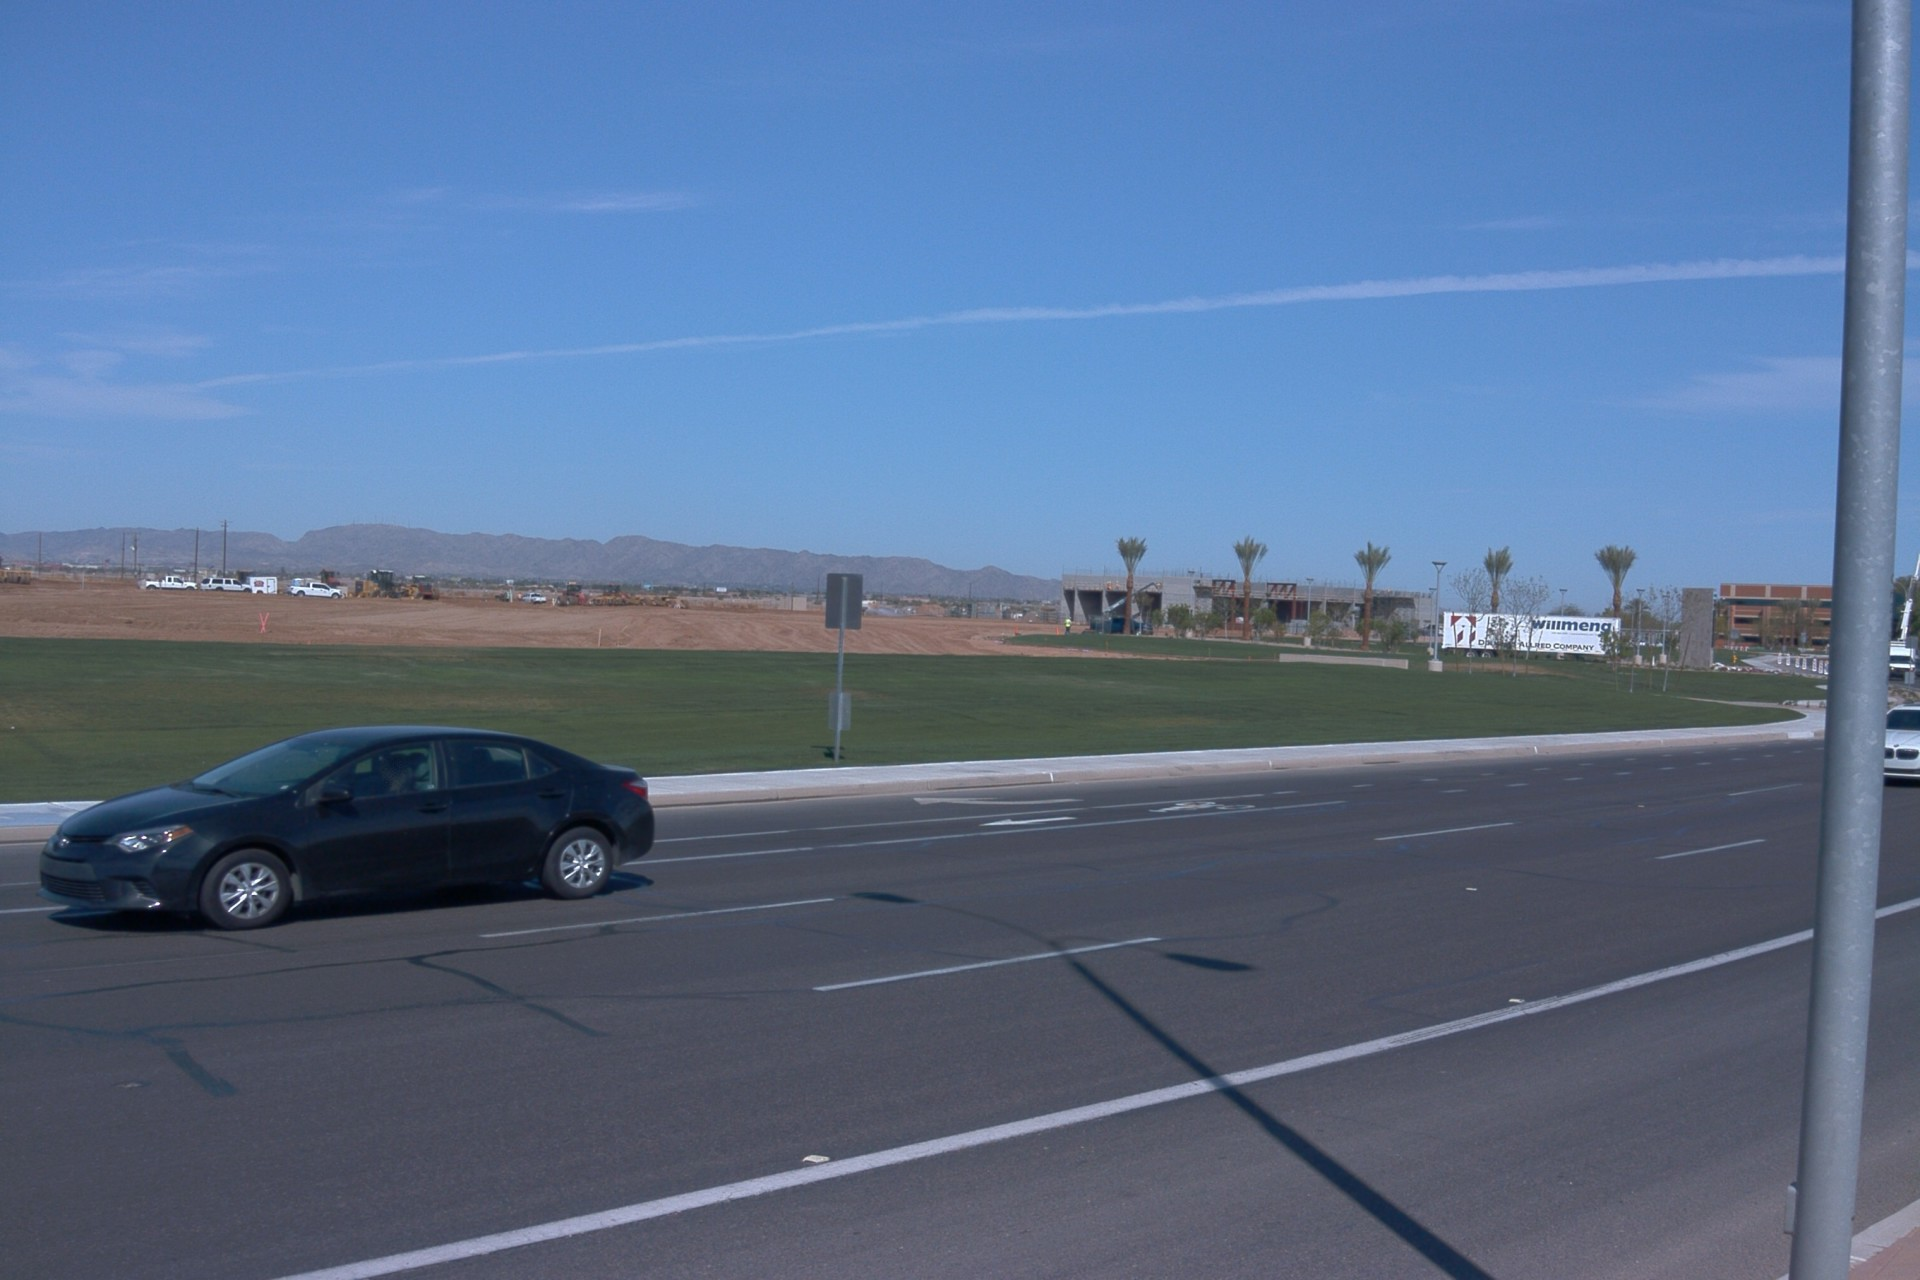TYPE_PEDESTRIAN: (1065, 616, 1073, 636), (516, 591, 525, 602), (505, 591, 510, 602)
TYPE_VEHICLE: (33, 725, 654, 935), (1440, 607, 1624, 665), (1883, 705, 1920, 784), (1101, 577, 1162, 621), (336, 566, 413, 599), (1896, 551, 1920, 641), (1886, 638, 1918, 679), (1084, 619, 1149, 638), (398, 572, 442, 600), (290, 579, 347, 598), (142, 573, 198, 591), (199, 574, 253, 591), (841, 589, 885, 609), (247, 572, 282, 592), (321, 573, 351, 591), (516, 591, 547, 604), (235, 570, 260, 585), (1914, 659, 1920, 679), (2, 565, 8, 569)
